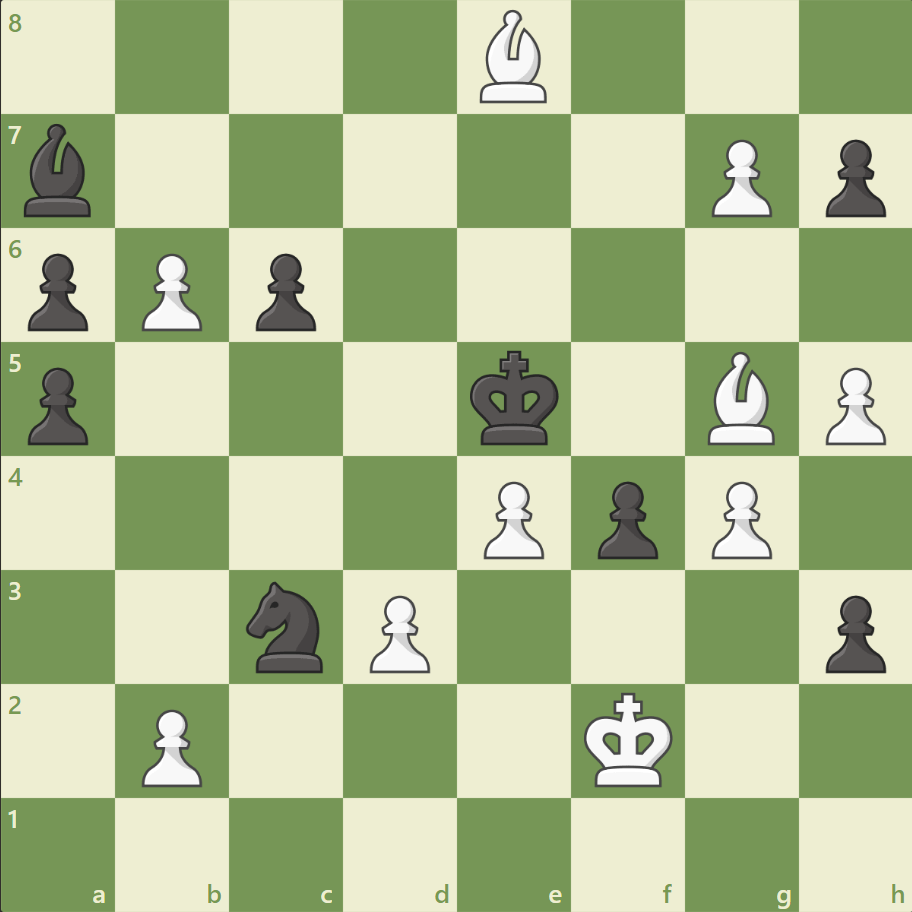B: (471, 6, 555, 109), (698, 347, 782, 449)
K: (579, 685, 679, 793)
P: (701, 132, 776, 223), (133, 246, 208, 337), (474, 473, 549, 564), (701, 473, 776, 564), (133, 700, 208, 791), (815, 359, 889, 450), (361, 586, 435, 677)
b: (17, 120, 101, 222)
k: (465, 344, 565, 452)
n: (238, 575, 335, 677)
p: (20, 246, 95, 337), (247, 246, 322, 337), (20, 359, 95, 450), (815, 132, 889, 223), (588, 473, 662, 564), (815, 586, 889, 677)
